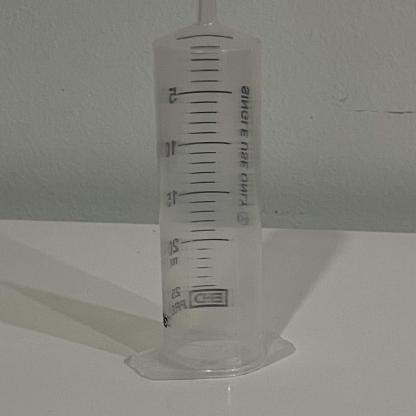dry: (108, 1, 299, 374)
